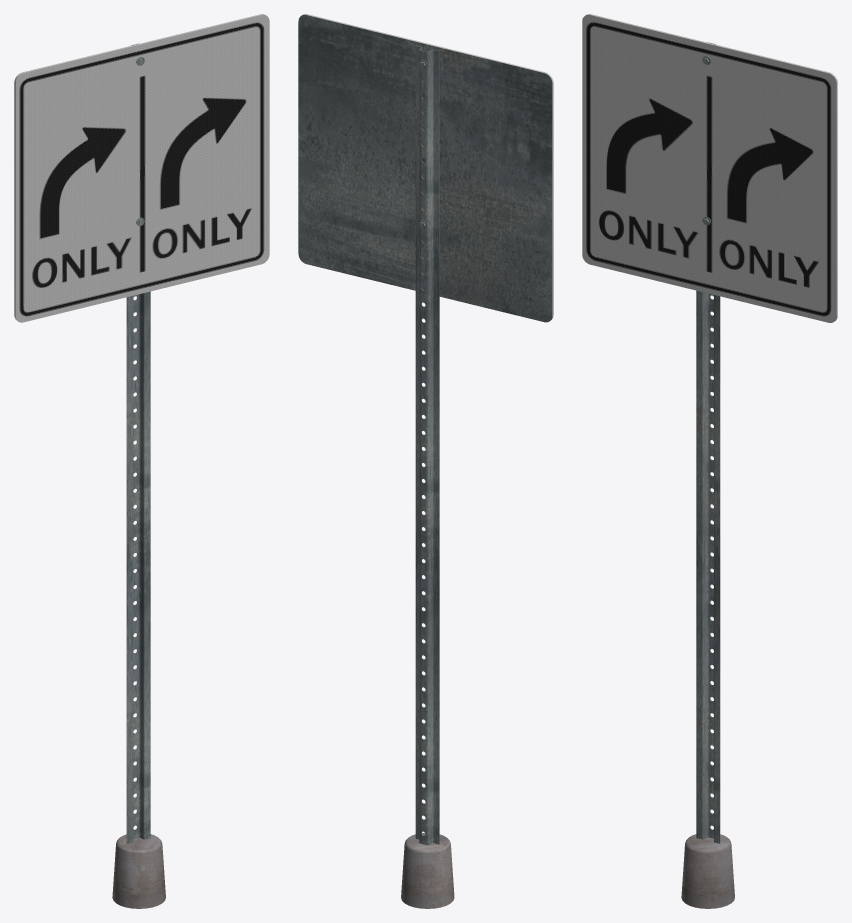
File: rightonly_nsoc.obj
3 views of the same model, side by side, from view 1: azimuth 30°, elevation 25°; view 2: azimuth 150°, elevation 25°; view 3: azimuth 330°, elevation 25° (orthographic).
Visible parts, largest first — view 1: sign_turn_arrows_3; view 2: sign_turn_arrows_3; view 3: sign_turn_arrows_3.
Boxes of the visible parts, x1,y1,x2,y2 form: sign_turn_arrows_3: [14, 14, 269, 908]; sign_turn_arrows_3: [298, 14, 553, 908]; sign_turn_arrows_3: [582, 14, 837, 908].
Size of the model in its own units: 32 by 103 by 5.84.
Materials: 3 (3 with a texture image).
